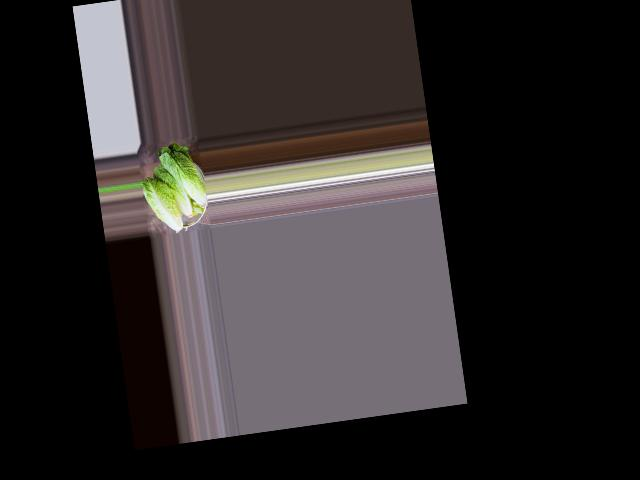lettuce: (156, 141, 209, 218)
